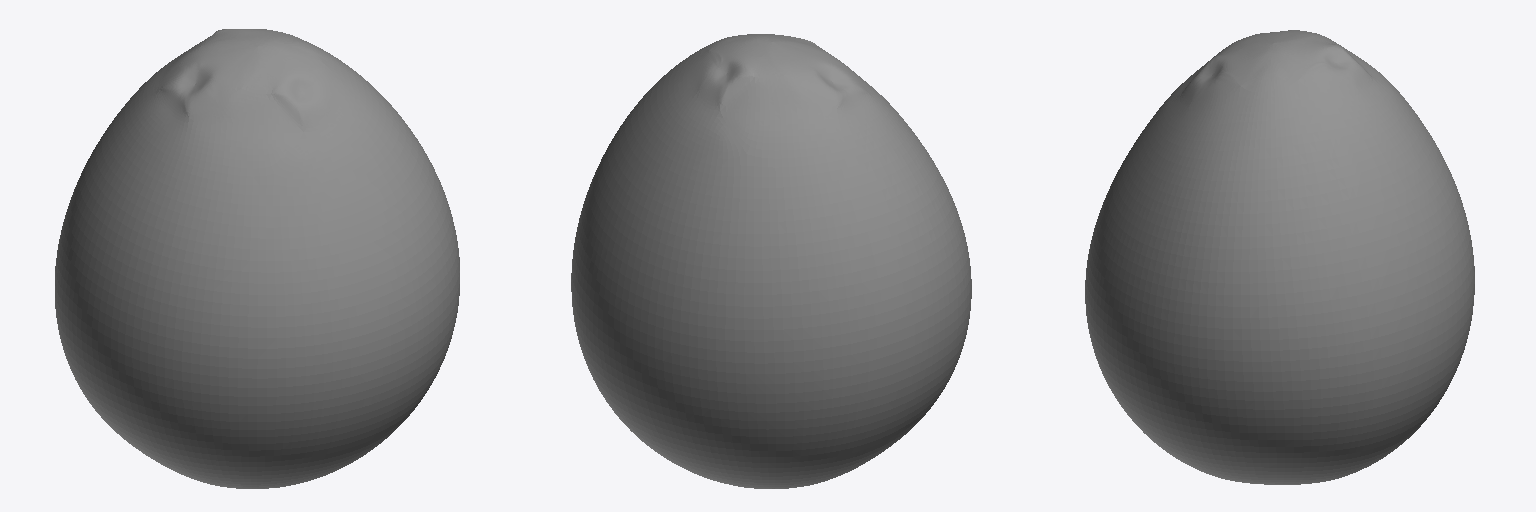
The model's file is coco.obj.
The picture shows the model from 3 angles: view 1: azimuth 30°, elevation 25°; view 2: azimuth 150°, elevation 25°; view 3: azimuth 270°, elevation 25°; orthographic projection.
Visible parts, largest first — view 1: 10175_Coconut_v01; view 2: 10175_Coconut_v01; view 3: 10175_Coconut_v01.
Part boxes in pixels (left/top/right/bottom): 10175_Coconut_v01: left=55, top=29, right=459, bottom=488; 10175_Coconut_v01: left=571, top=34, right=971, bottom=488; 10175_Coconut_v01: left=1085, top=30, right=1474, bottom=484.
Bounding box in the file's own units: 18.24 × 21.05 × 17.49.